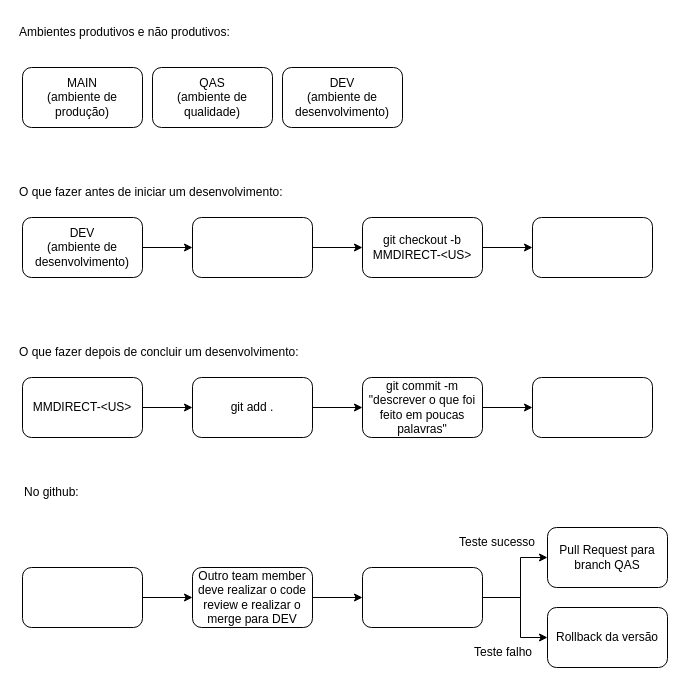
This 685x685 diagram has some shape labels left out. Each missing label, with the box of its shape:
git pull origin dev: (192, 216, 312, 278)
git push origin MMDIRECT-<US>: (532, 376, 652, 438)
Neste ponto inicia-se o desenvolvimento da solução em questão.: (532, 216, 652, 278)
Realizar um Pull Request da sua branch para DEV: (22, 566, 142, 628)
Testar a solução em DEV: (362, 566, 482, 628)
